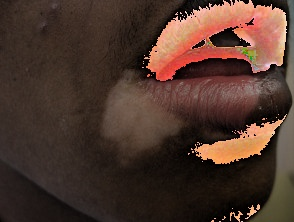vitiligo: (63, 12, 287, 194)
